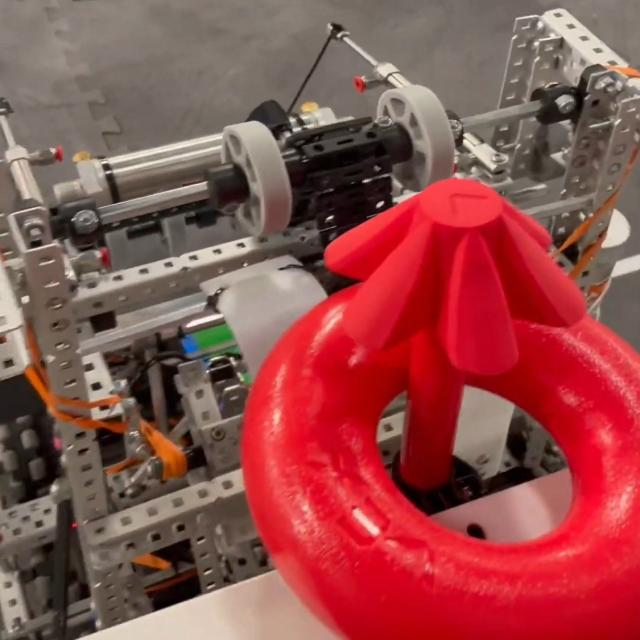Red-Ring: (240, 282, 640, 640)
zred-Stake-Head: (327, 179, 586, 376)
